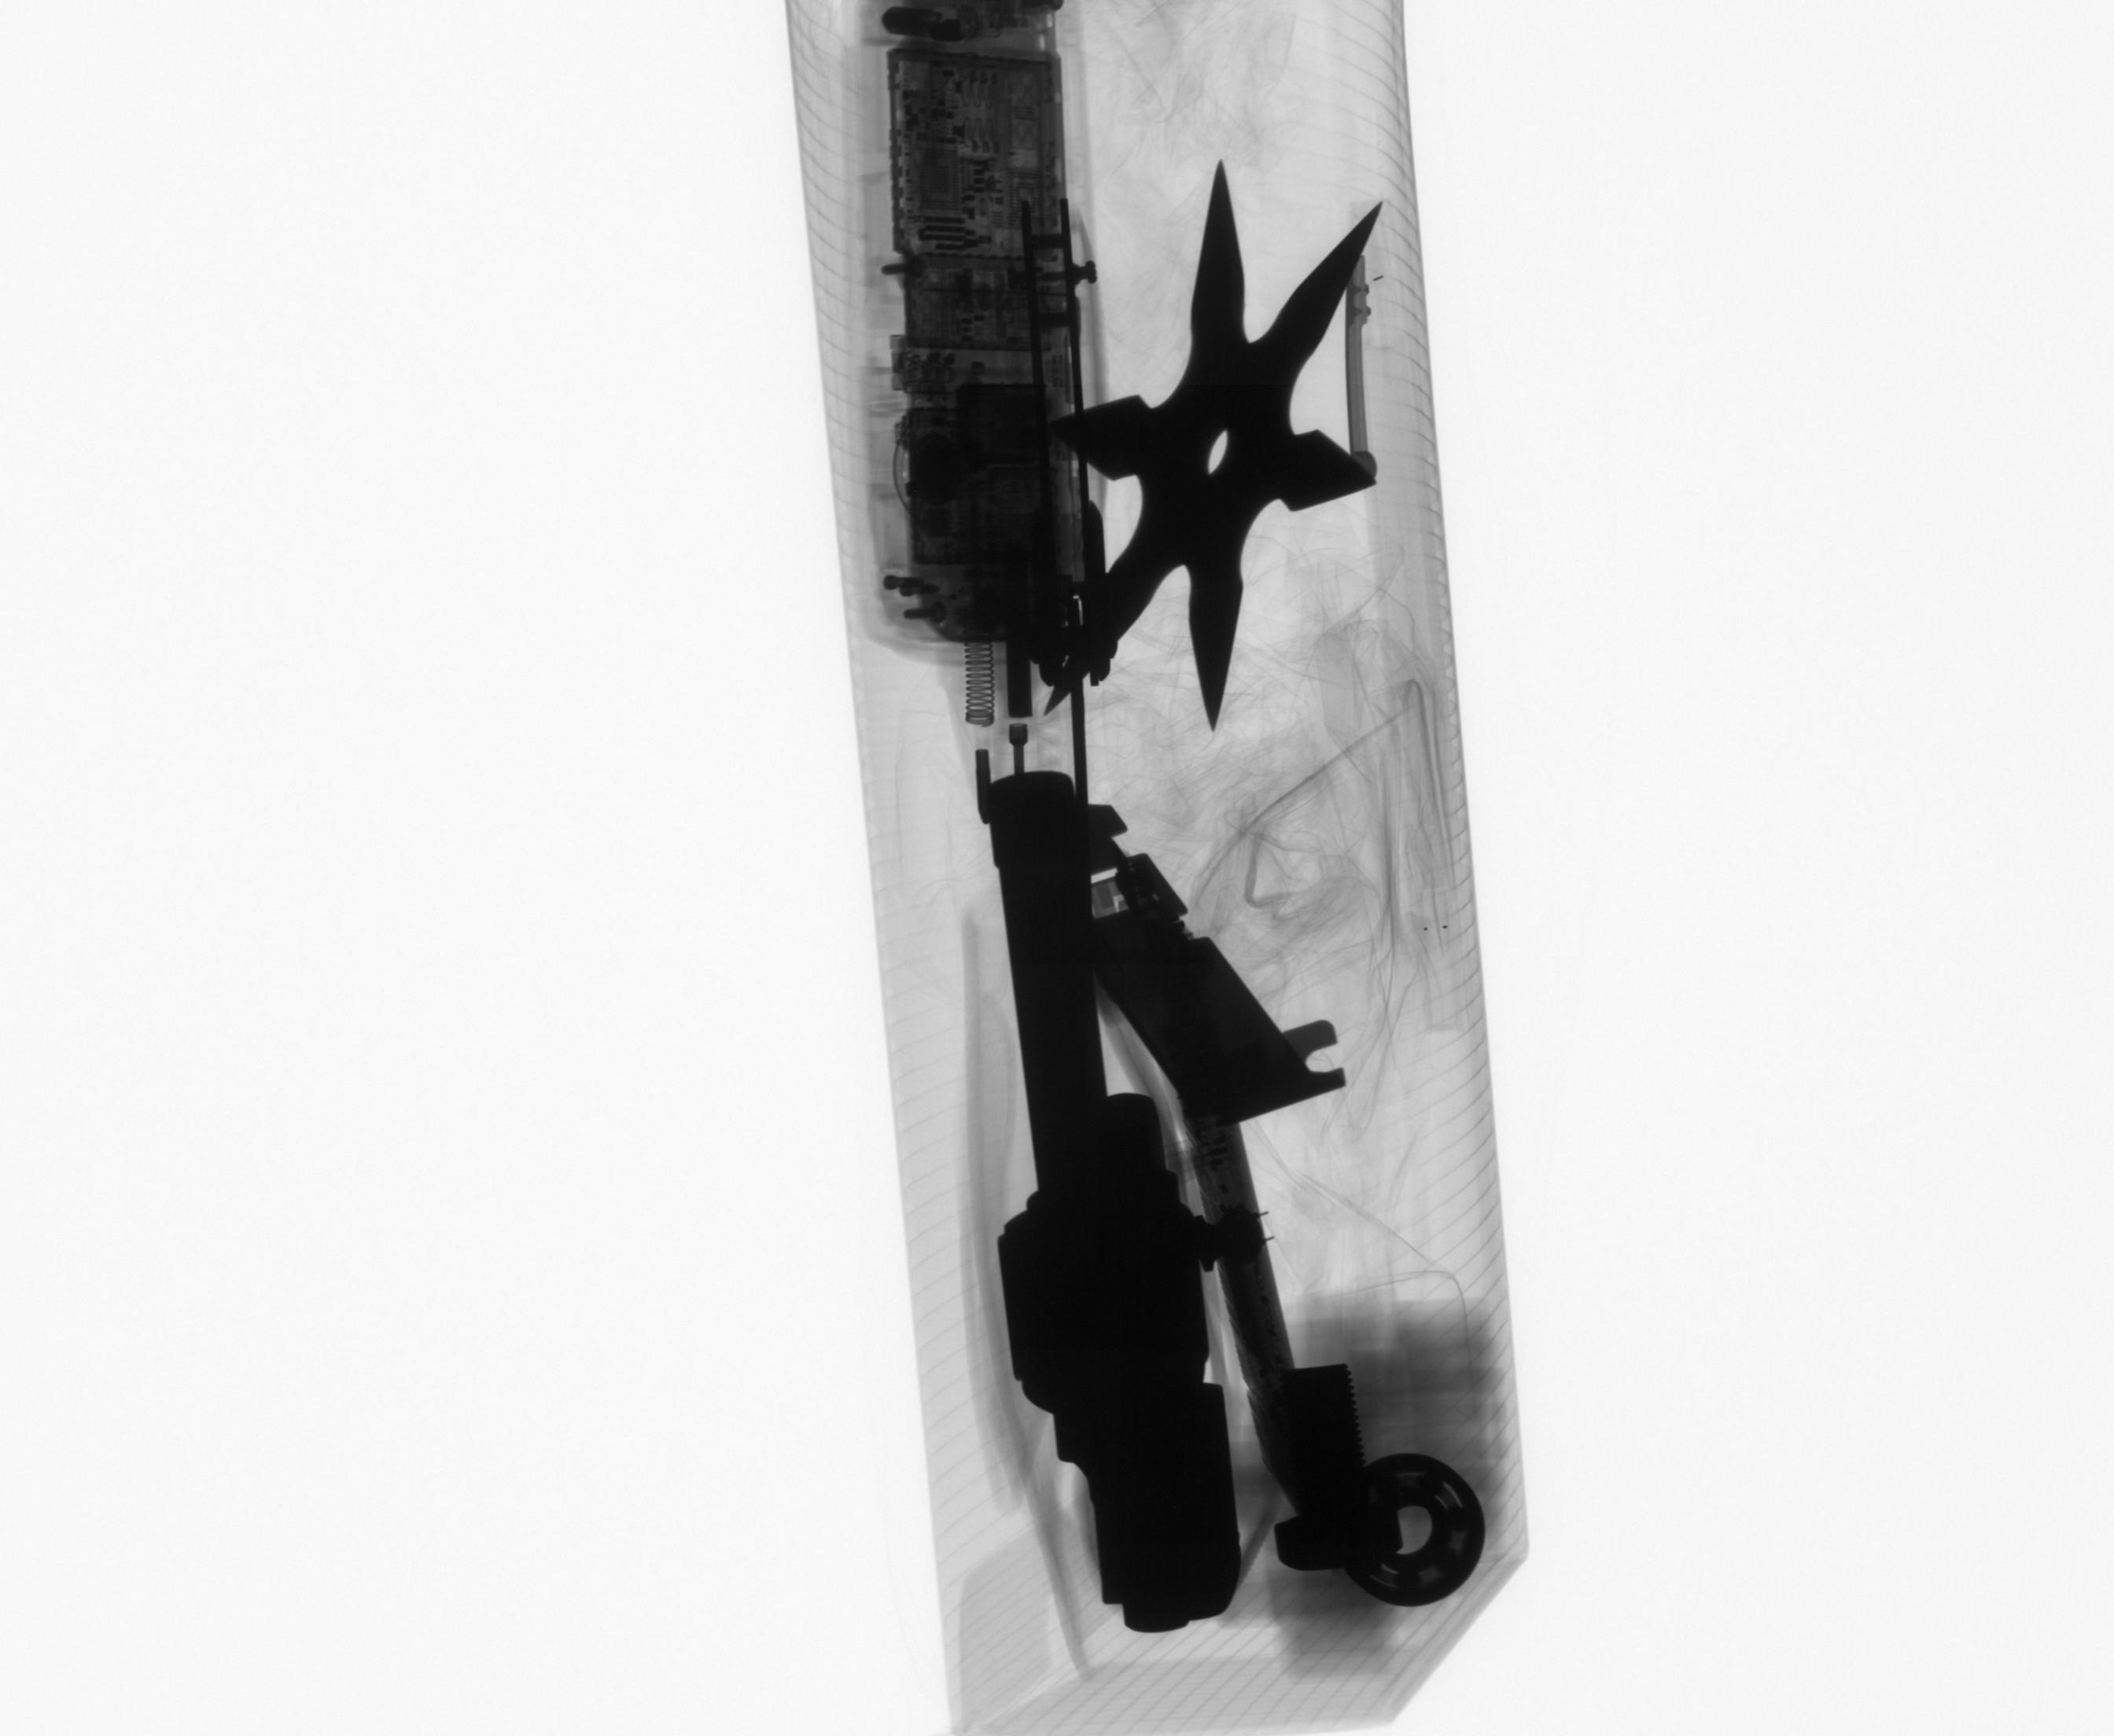Handgun: (970, 764, 1262, 1638)
Shuriken: (1017, 153, 1390, 739)
